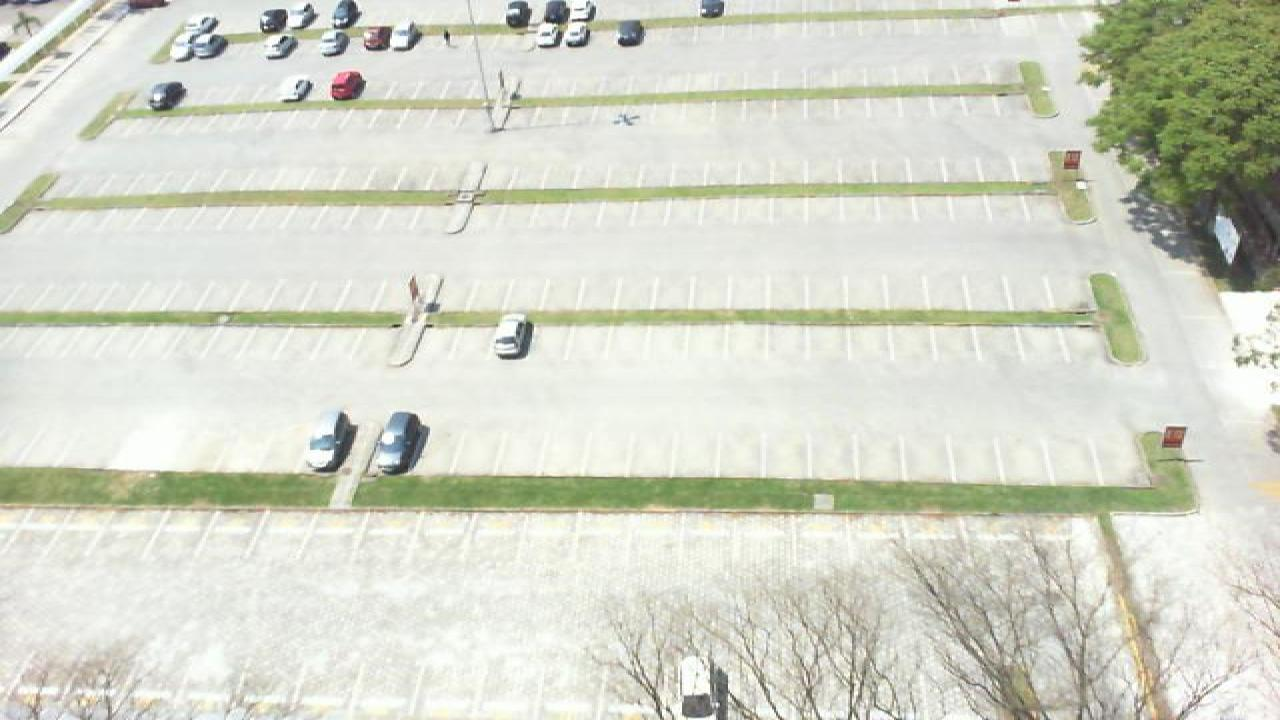Car: (370, 411, 426, 474), (676, 656, 726, 720), (302, 410, 352, 472), (492, 314, 532, 359), (148, 82, 186, 110), (330, 70, 364, 100), (264, 33, 300, 58), (278, 78, 312, 102), (332, 0, 360, 29), (564, 20, 592, 48), (616, 19, 644, 46), (172, 32, 198, 60), (390, 24, 418, 50), (538, 0, 566, 26), (258, 7, 286, 32), (318, 28, 346, 53), (290, 4, 316, 30), (506, 0, 532, 26), (538, 22, 564, 48), (362, 27, 390, 51), (196, 33, 226, 54), (190, 13, 218, 35), (568, 0, 596, 21), (698, 0, 726, 19)
